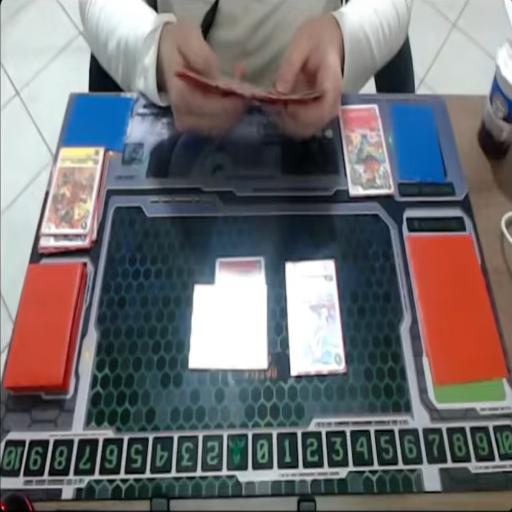card: (283, 256, 348, 379), (188, 286, 269, 370), (42, 143, 107, 237), (340, 100, 392, 198), (214, 256, 265, 290)
